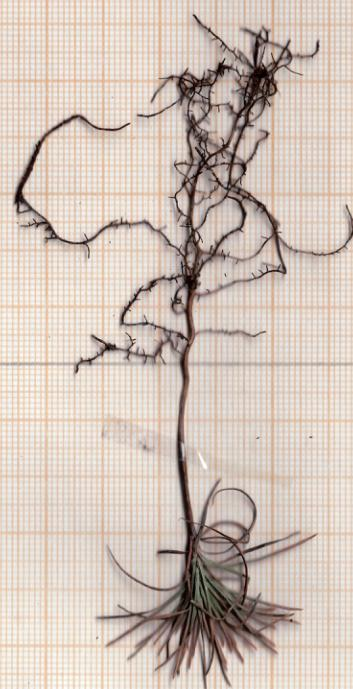flower: (94, 481, 310, 689)
root: (11, 32, 324, 375)
stem: (167, 358, 202, 535)
